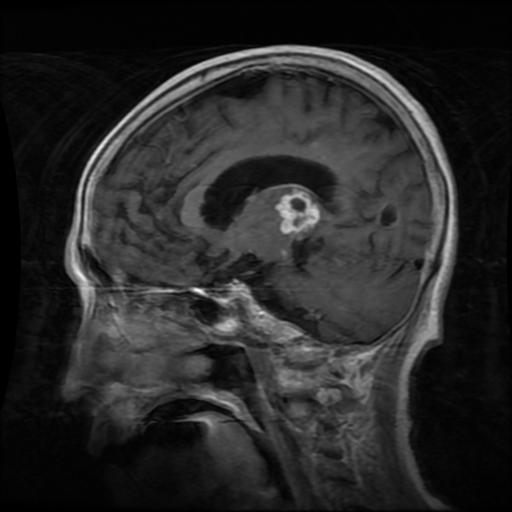Gliomia_tumour: (274, 188, 319, 233)
